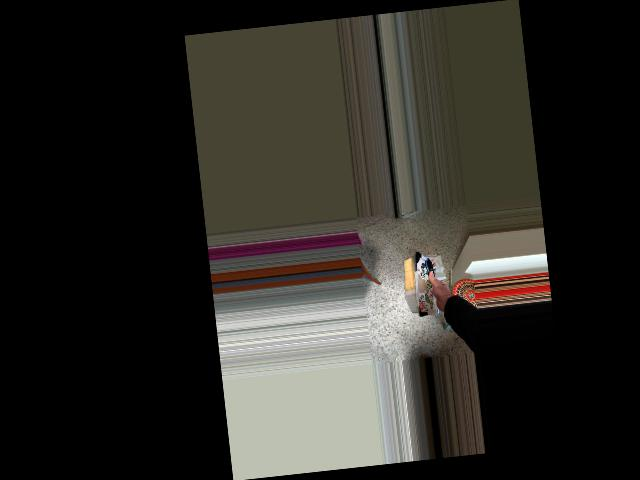cheese: (383, 246, 455, 327)
